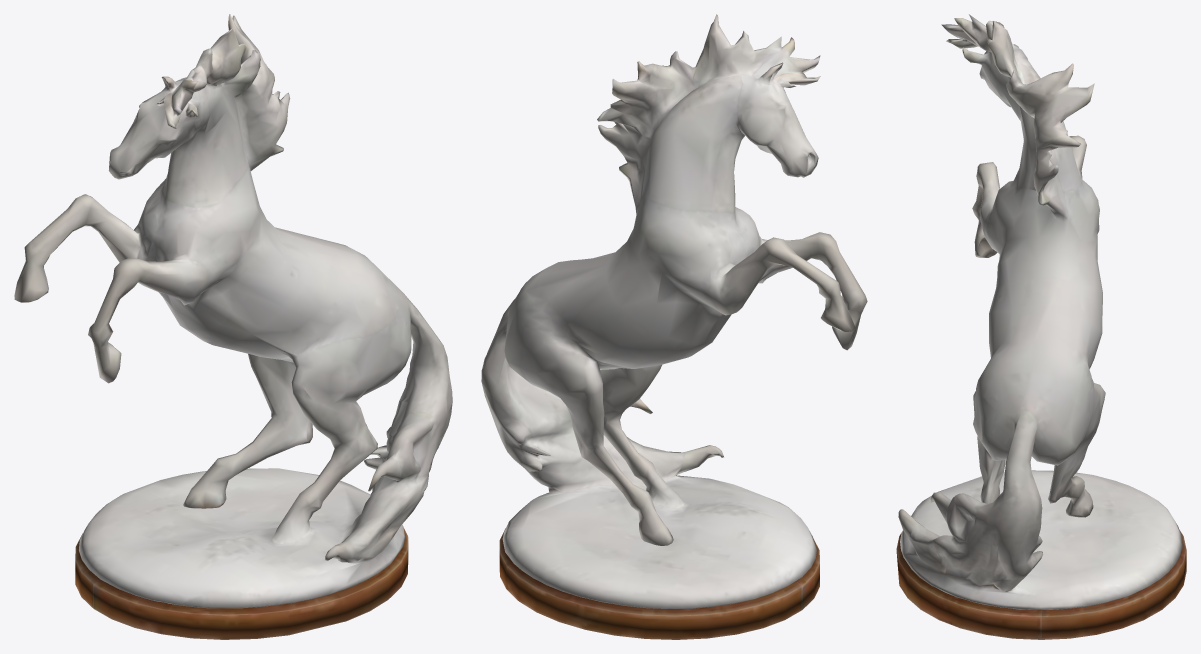
The model's file is horse.glb.
3 views of the same model, side by side, from view 1: azimuth 30°, elevation 25°; view 2: azimuth 150°, elevation 25°; view 3: azimuth 270°, elevation 25° (orthographic). The views are drawn at different scales.
Parts seen in each view (by area): view 1: horse_statue_01; view 2: horse_statue_01; view 3: horse_statue_01.
Part boxes in pixels (<box>): horse_statue_01: <box>14,14,452,639</box>; horse_statue_01: <box>481,14,867,639</box>; horse_statue_01: <box>896,14,1186,639</box>.
Size of the model in its own units: 0.1638 by 0.22 by 0.1078.
Materials: 1 (1 with a texture image).
